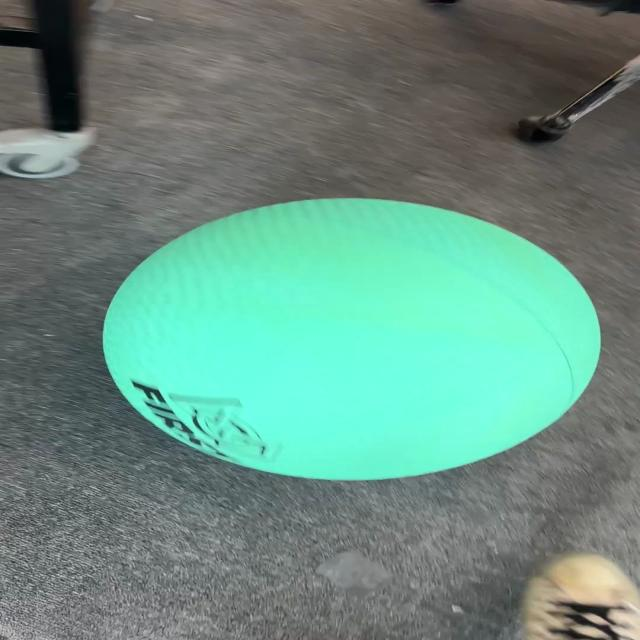Algae: (100, 196, 602, 482)
